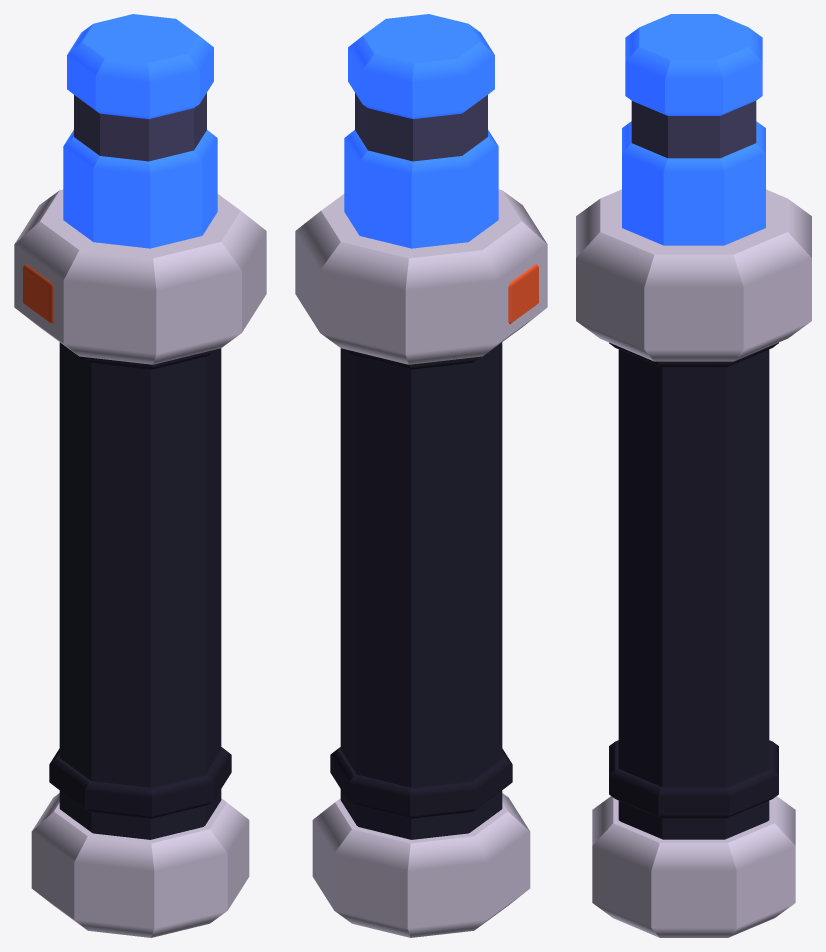
Rendered from baton.glb.
3 renders of one model, left to right at view 1: azimuth 30°, elevation 25°; view 2: azimuth 150°, elevation 25°; view 3: azimuth 270°, elevation 25°, orthographic.
Visible parts, largest first — view 1: item.baton.body, part.blade; view 2: item.baton.body, part.blade; view 3: item.baton.body, part.blade.
Part boxes in pixels (x1,y1,x2,y2): item.baton.body: (14,189,266,937); part.blade: (63,14,217,248); item.baton.body: (295,189,547,937); part.blade: (344,14,498,248); item.baton.body: (576,189,811,937); part.blade: (622,14,765,245).
Bounding box in the file's own units: 0.1141 × 0.4563 × 0.1125.
